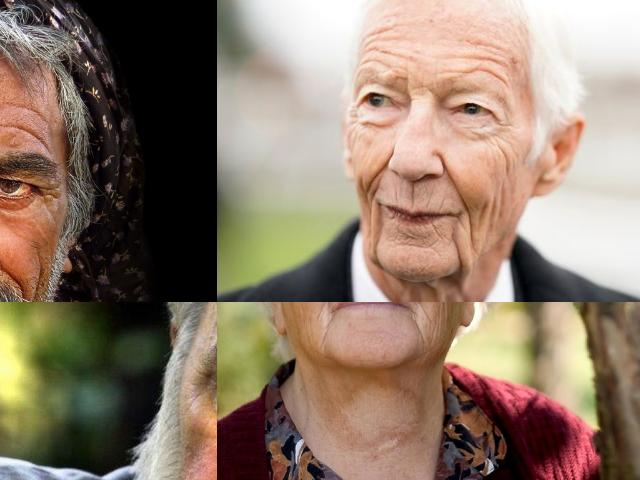chin: (394, 231, 441, 254)
crows_feet: (487, 107, 521, 141), (37, 180, 59, 206), (346, 102, 362, 130)
forehead: (458, 45, 514, 81), (364, 26, 404, 70), (4, 118, 46, 148), (0, 96, 46, 121)
frown_line: (412, 79, 436, 97)
gummy_smile: (438, 158, 467, 204), (0, 260, 28, 296), (368, 152, 390, 194)
masseter: (484, 188, 512, 230), (494, 148, 520, 180), (30, 263, 49, 302), (436, 302, 451, 330)
sad_smile: (457, 207, 477, 260), (365, 198, 383, 242), (322, 313, 340, 343), (408, 320, 430, 344)
